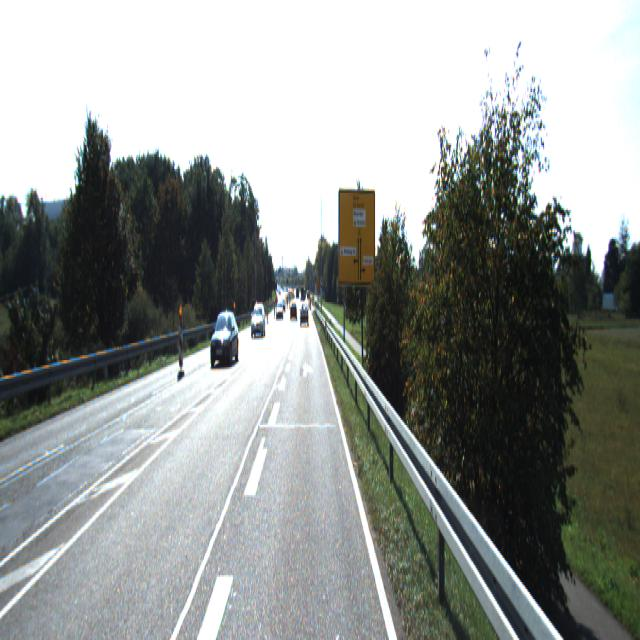Car: (210, 310, 239, 369), (251, 303, 265, 337), (300, 306, 308, 328)
